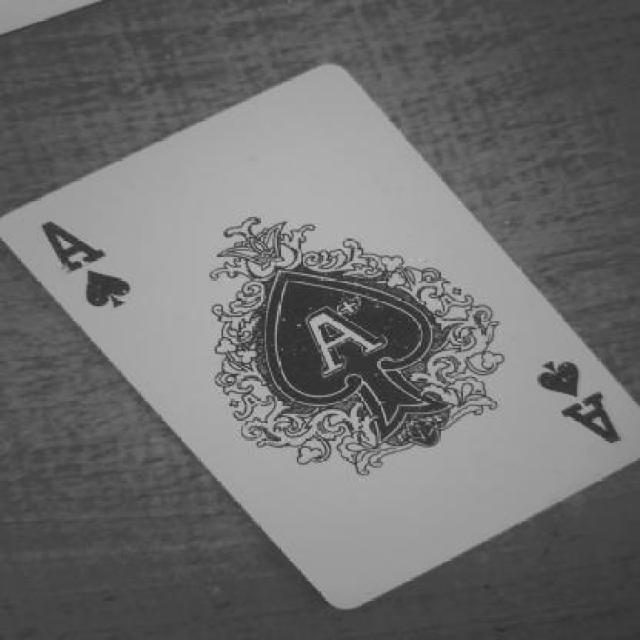AS: (42, 202, 146, 328), (517, 350, 634, 456)
